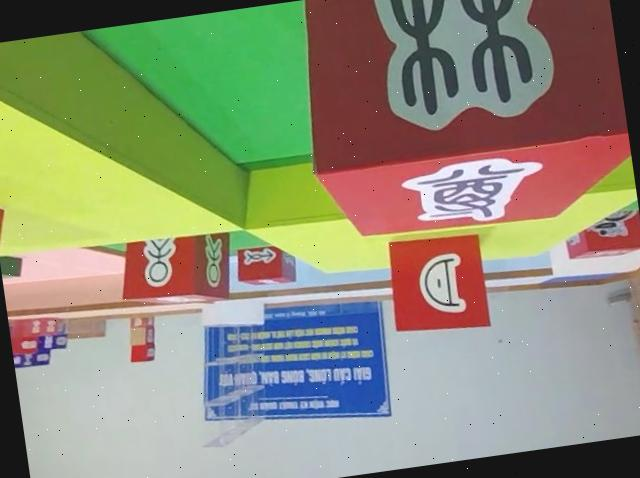R1: (564, 203, 640, 264)
R2 Fake: (291, 0, 638, 251)
R2 Real: (384, 232, 492, 341), (114, 223, 238, 312), (234, 237, 299, 294)
